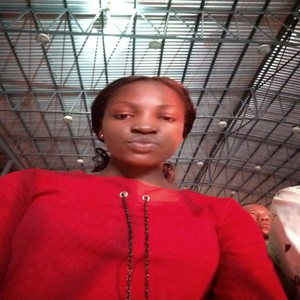Fulokoja_female_student: (93, 83, 224, 300)
